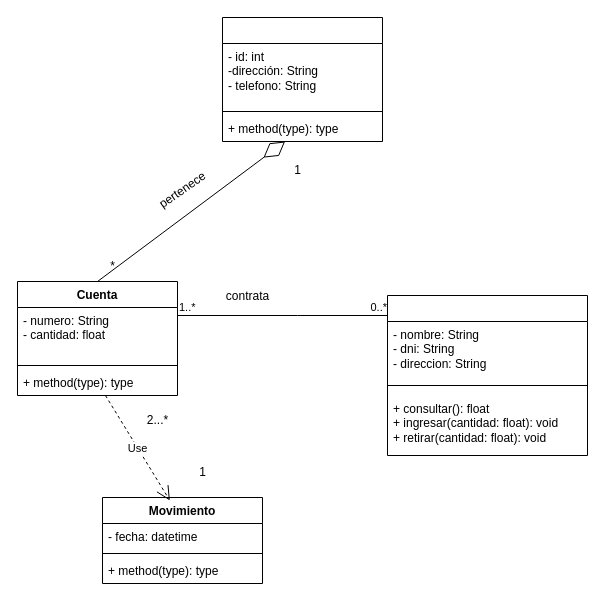
This 605x604 diagram has some shape labels left out. The box of each missing label's shape, as (x1, y1, x2, y2) in pixels:
Cliente: (386, 294, 588, 456)
Sucursal: (222, 16, 382, 142)
